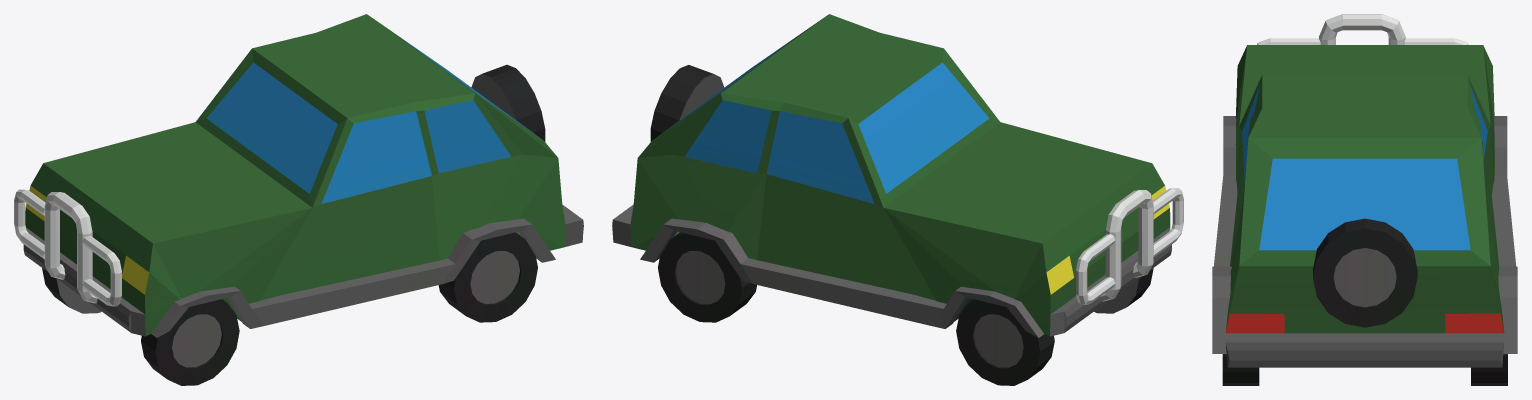
The model's file is Jeep.fbx.
3 views of the same model, side by side, from view 1: azimuth 30°, elevation 25°; view 2: azimuth 150°, elevation 25°; view 3: azimuth 270°, elevation 25° (orthographic). The views are drawn at different scales.
Parts seen in each view (by area): view 1: JeepBodyColor, JeepBody, JeepTires; view 2: JeepBodyColor, JeepBody, JeepTires; view 3: JeepBodyColor, JeepBody, JeepTires.
Part boxes in pixels (x1,y1,x2,y2): JeepBodyColor: (25, 14, 565, 335); JeepBody: (14, 35, 583, 337); JeepTires: (42, 232, 537, 385); JeepBodyColor: (630, 14, 1170, 336); JeepBody: (612, 35, 1183, 337); JeepTires: (658, 232, 1153, 385); JeepBodyColor: (1226, 45, 1504, 333); JeepBody: (1212, 14, 1517, 367); JeepTires: (1222, 354, 1507, 385).
Size of the model in its own units: 330 by 150 by 174.
